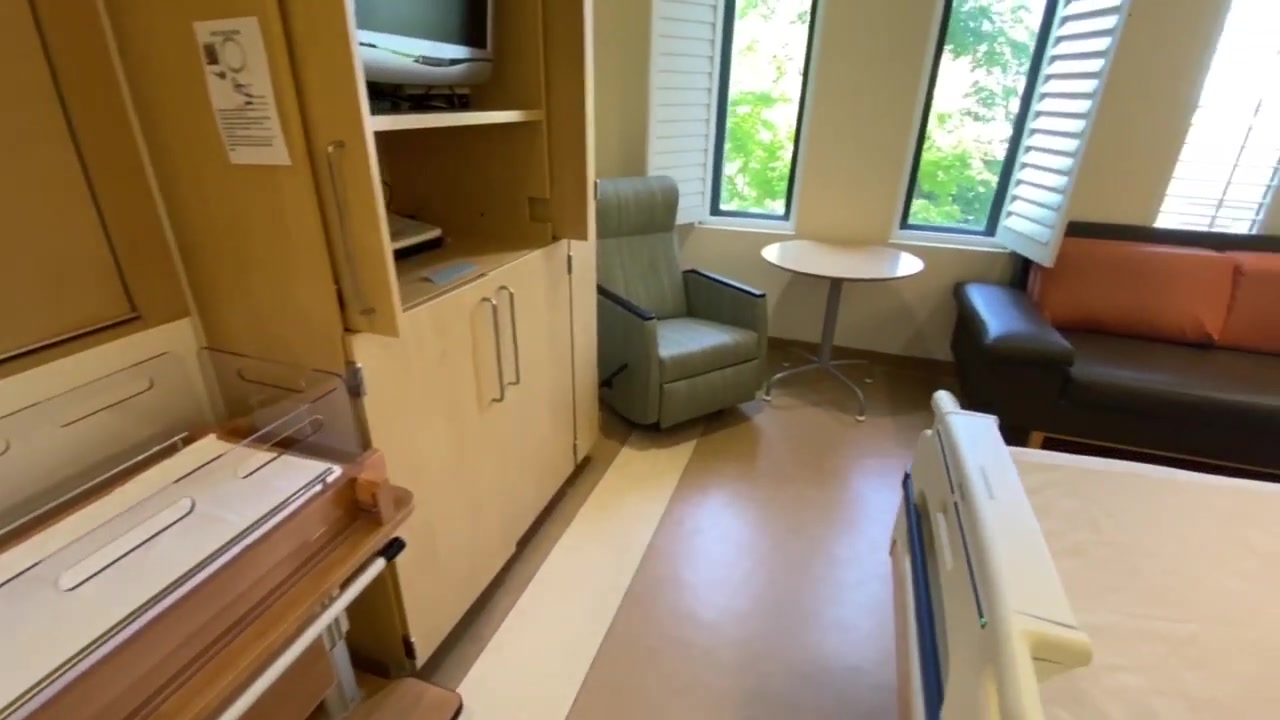TV: (353, 1, 498, 88)
foot_board: (912, 410, 1093, 720)
handle: (319, 138, 376, 324), (494, 282, 522, 387), (480, 296, 506, 405)
hospital_bed: (885, 389, 1280, 720)
sofa: (949, 219, 1280, 483), (596, 172, 769, 432)
table: (761, 237, 923, 424)
